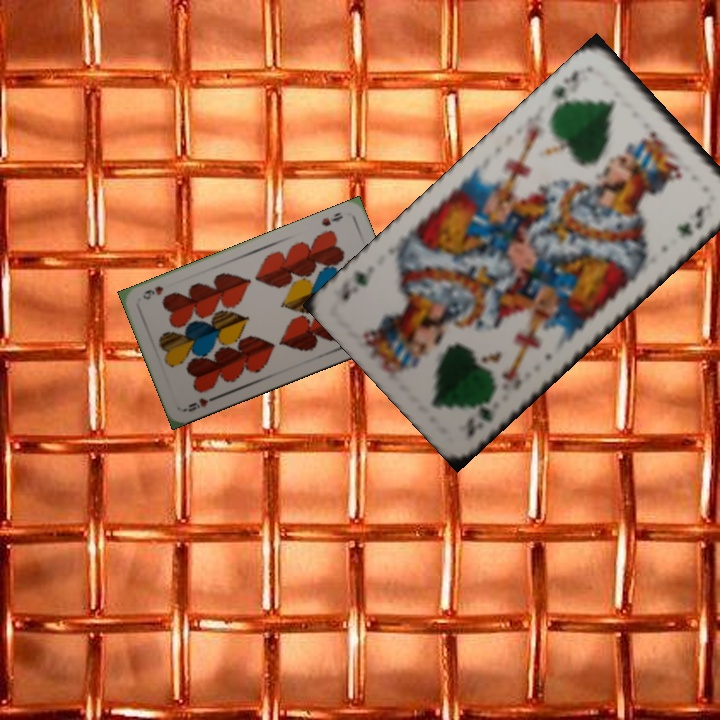GK: (544, 63, 588, 112), (462, 390, 499, 439)
H9: (180, 392, 219, 414), (317, 208, 345, 229)
